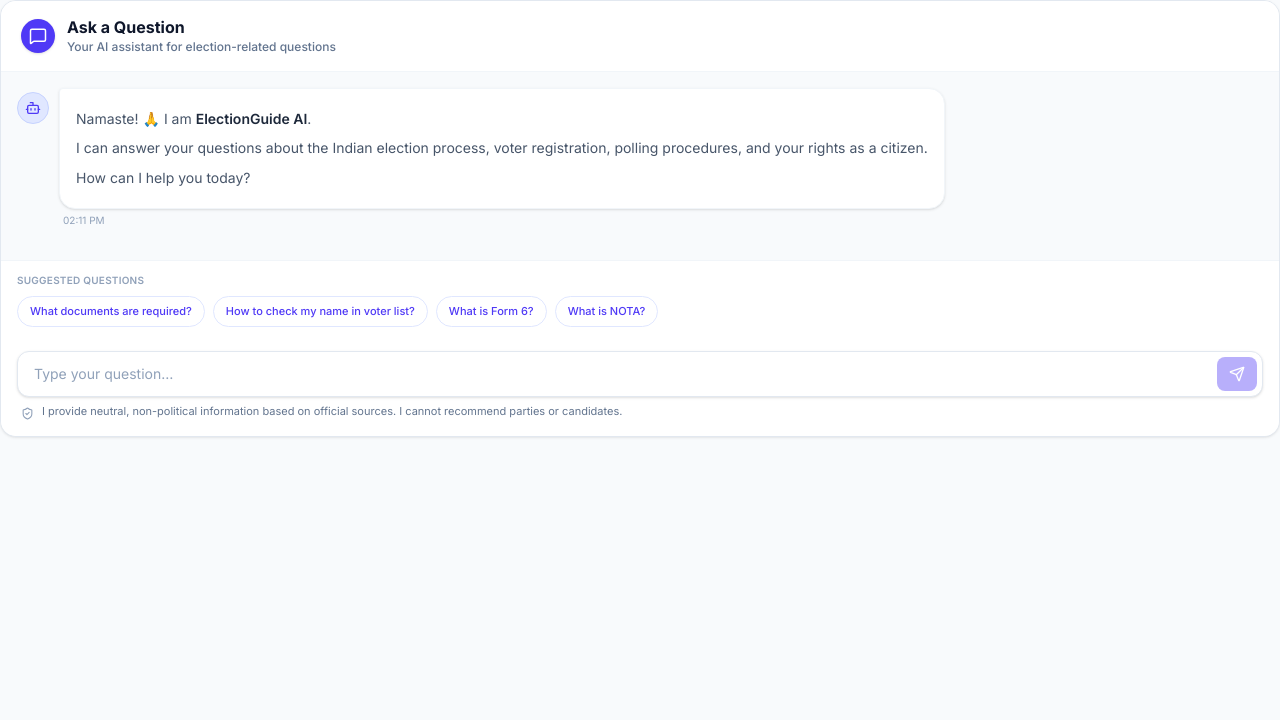
AskAi Component › Structured answer for voter registration › shows step-by-step answer for "How do I register as a new voter?"
The image size is (1280, 720).
In the field with test id "chat-input": (640, 374) [17,351,1263,397], type "How do I register as a new voter?"
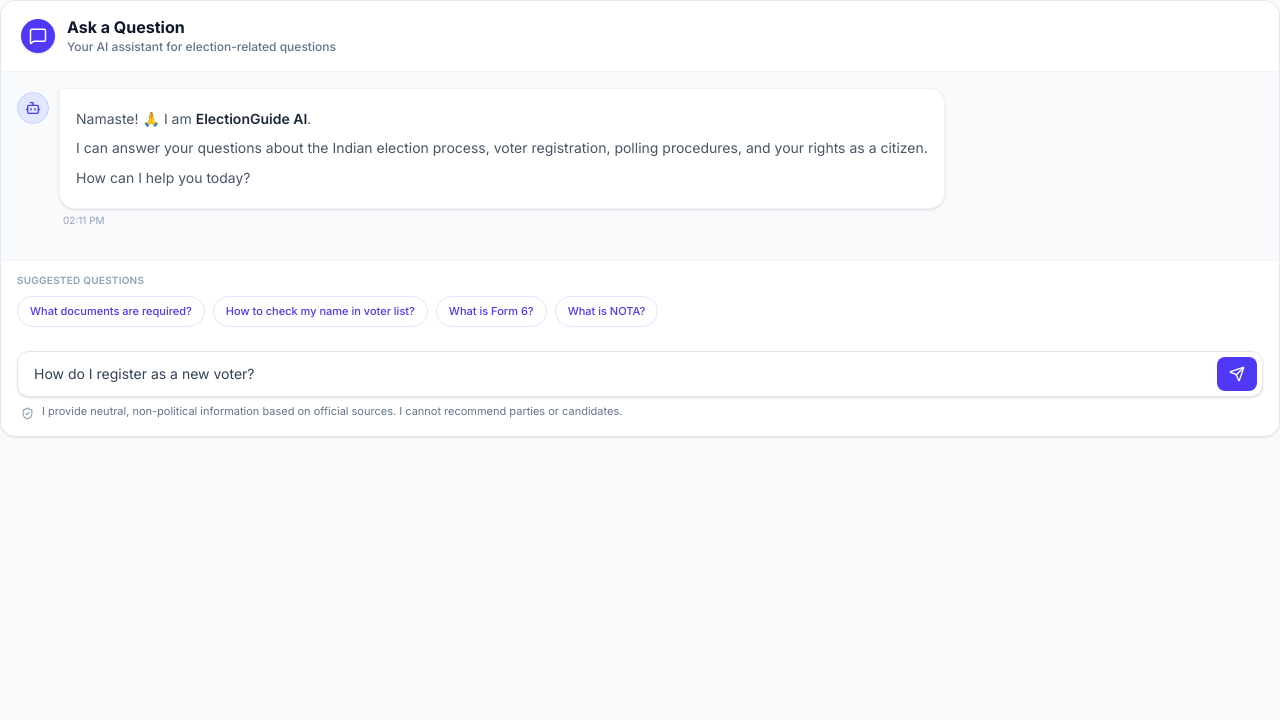
Submit the form with test id "chat-form", box [17,351,1263,397]
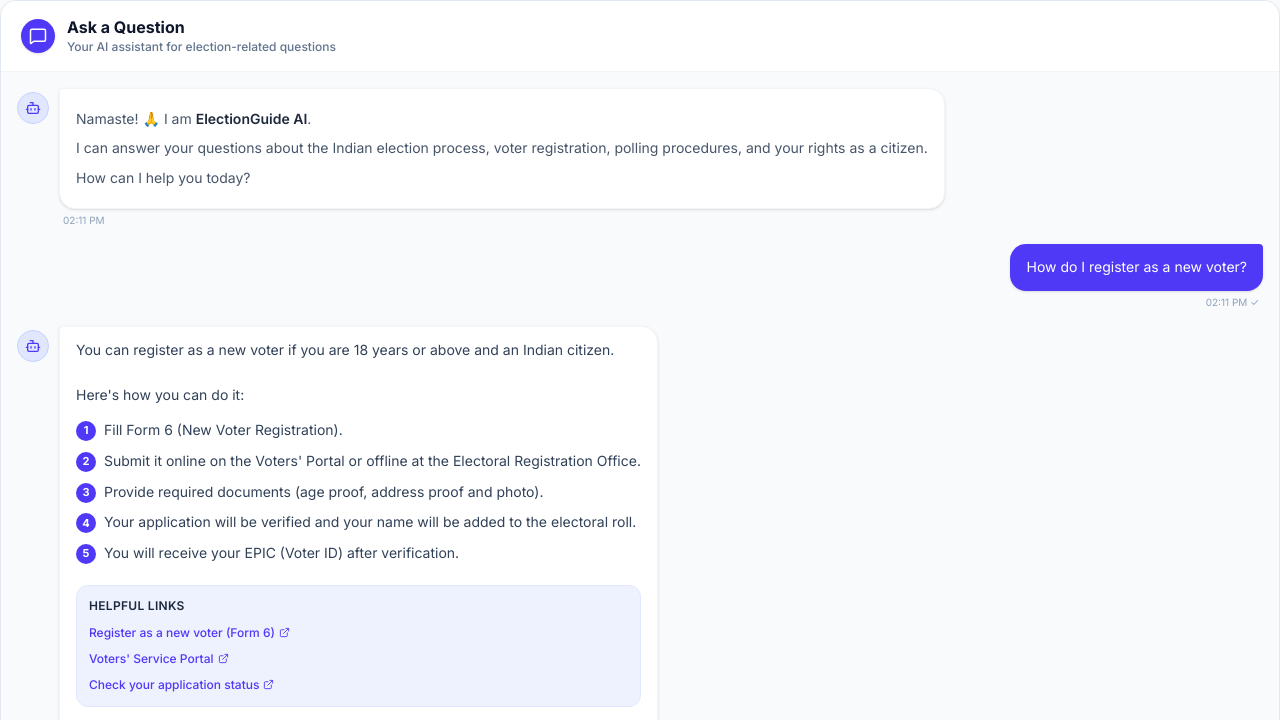
Check: the text "Fill Form 6 (New Voter Registration)." is shown, box [104,419,343,442]
